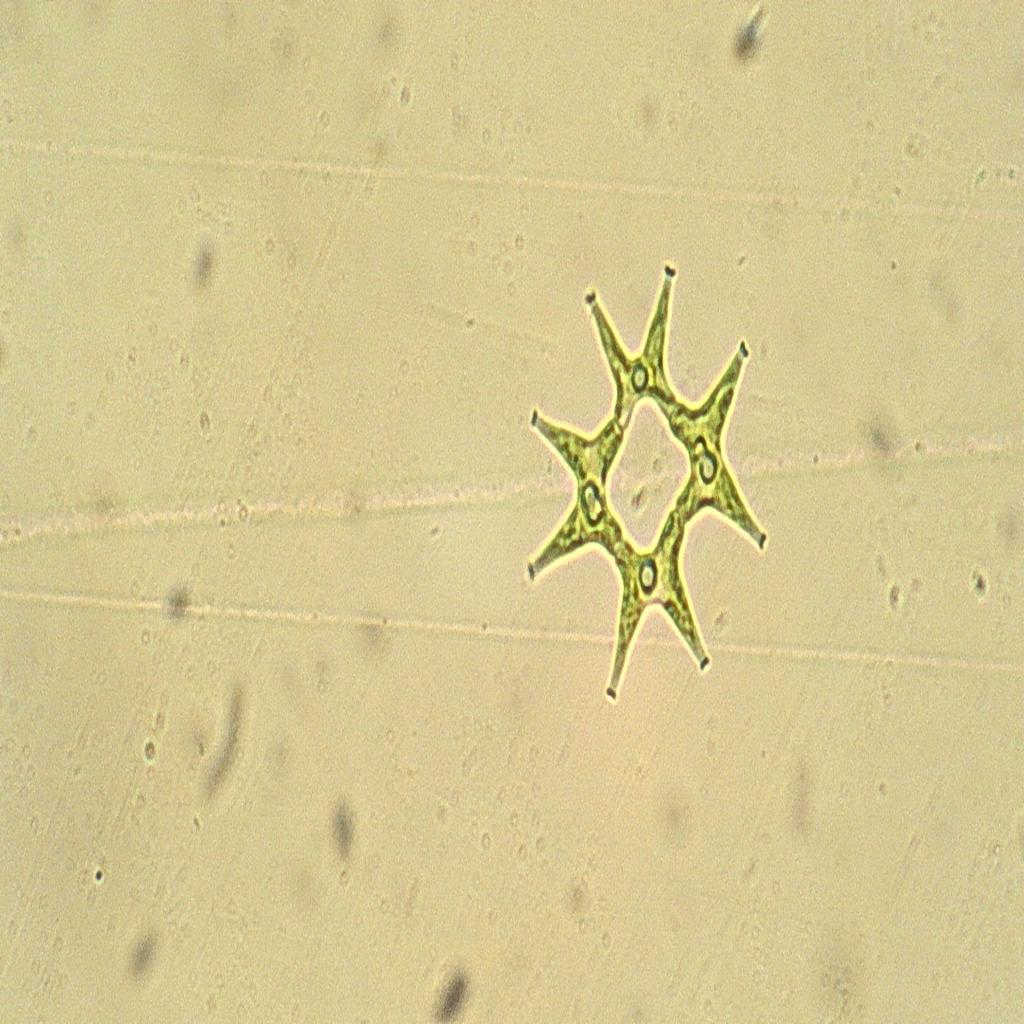Pediastrum_CO: (510, 249, 800, 720)
